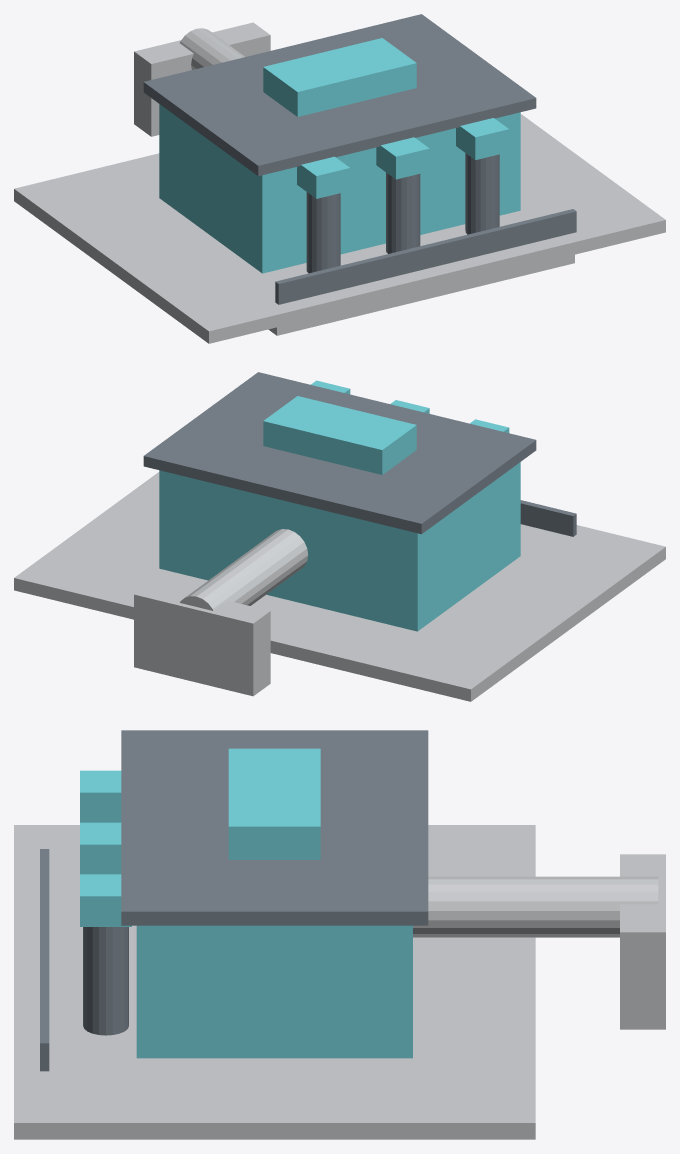
The model's file is pump-station.glb.
The picture shows the model from 3 angles, top to bottom: view 1: azimuth 30°, elevation 25°; view 2: azimuth 150°, elevation 25°; view 3: azimuth 270°, elevation 25°; orthographic projection. The views are drawn at different scales.
Parts seen in each view (by area): view 1: apron, roof, house, monitor, trash-rack, headwall, intake-bay, pump-2, pump-0, pump-1, motor-0, motor-1 (+2 smaller); view 2: apron, house, roof, headwall, monitor, outfall, trash-rack; view 3: apron, roof, house, outfall, monitor, headwall, pump-2, motor-2, trash-rack, motor-0, motor-1.
Boxes of the visible parts, box(x1,y1,x2,y2) form: apron: box(14, 114, 665, 343); roof: box(143, 14, 536, 176); house: box(159, 104, 520, 273); monitor: box(263, 38, 416, 116); trash-rack: box(275, 209, 576, 304); headwall: box(134, 22, 270, 136); intake-bay: box(268, 254, 574, 335); pump-2: box(465, 153, 499, 234); pump-0: box(306, 192, 340, 273); pump-1: box(386, 172, 420, 253); motor-0: box(297, 156, 350, 198); motor-1: box(376, 137, 429, 179); apron: box(14, 472, 665, 701); house: box(159, 462, 520, 631); roof: box(143, 372, 536, 534); headwall: box(134, 582, 270, 696); monitor: box(263, 396, 416, 474); outfall: box(180, 529, 308, 610); trash-rack: box(520, 500, 576, 536); apron: box(14, 825, 535, 1139); roof: box(121, 730, 428, 925); house: box(136, 925, 412, 1058); outfall: box(413, 876, 658, 937); monitor: box(228, 748, 320, 859); headwall: box(620, 854, 665, 1029); pump-2: box(83, 927, 128, 1035); motor-2: box(80, 874, 131, 926); trash-rack: box(40, 849, 49, 1071); motor-0: box(80, 770, 121, 822); motor-1: box(80, 822, 121, 874).
Bounding box in the file's own units: 46 × 16.5 × 42.5.
